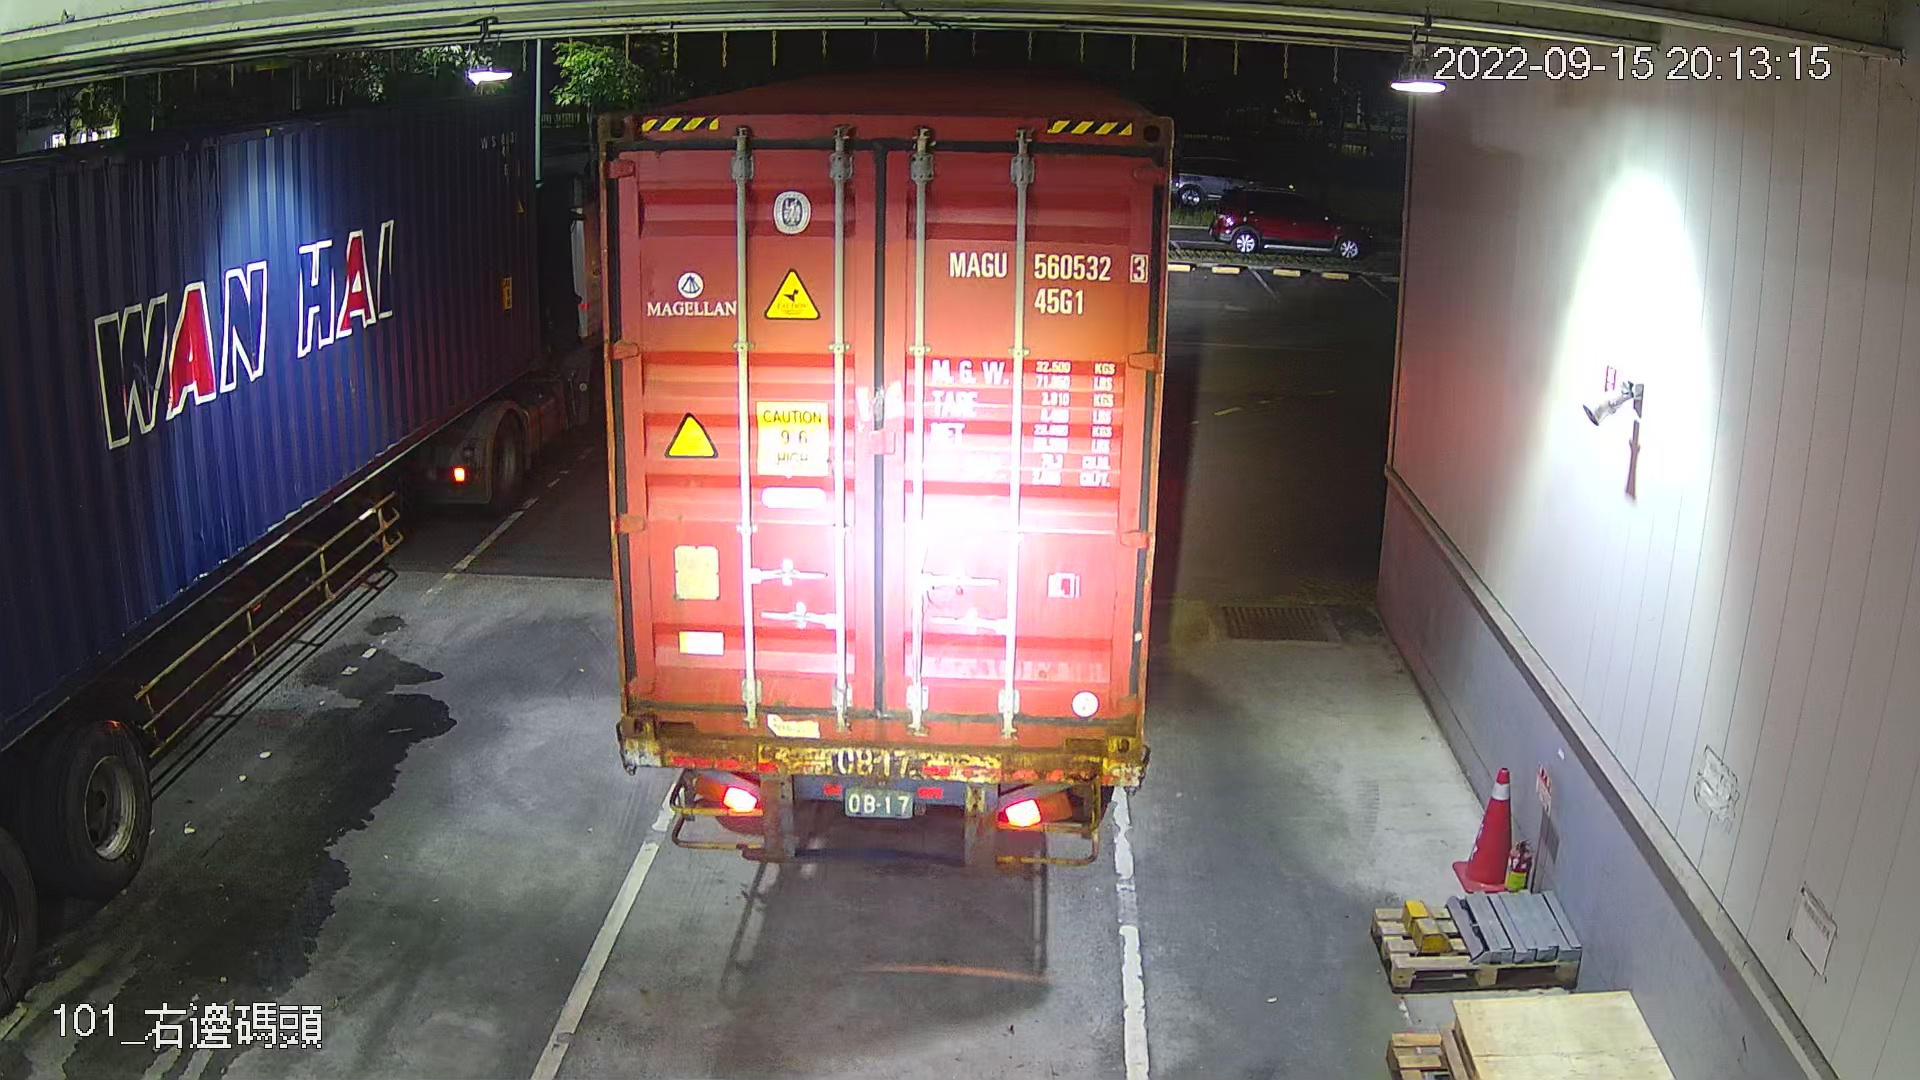container: (938, 237, 1156, 330)
